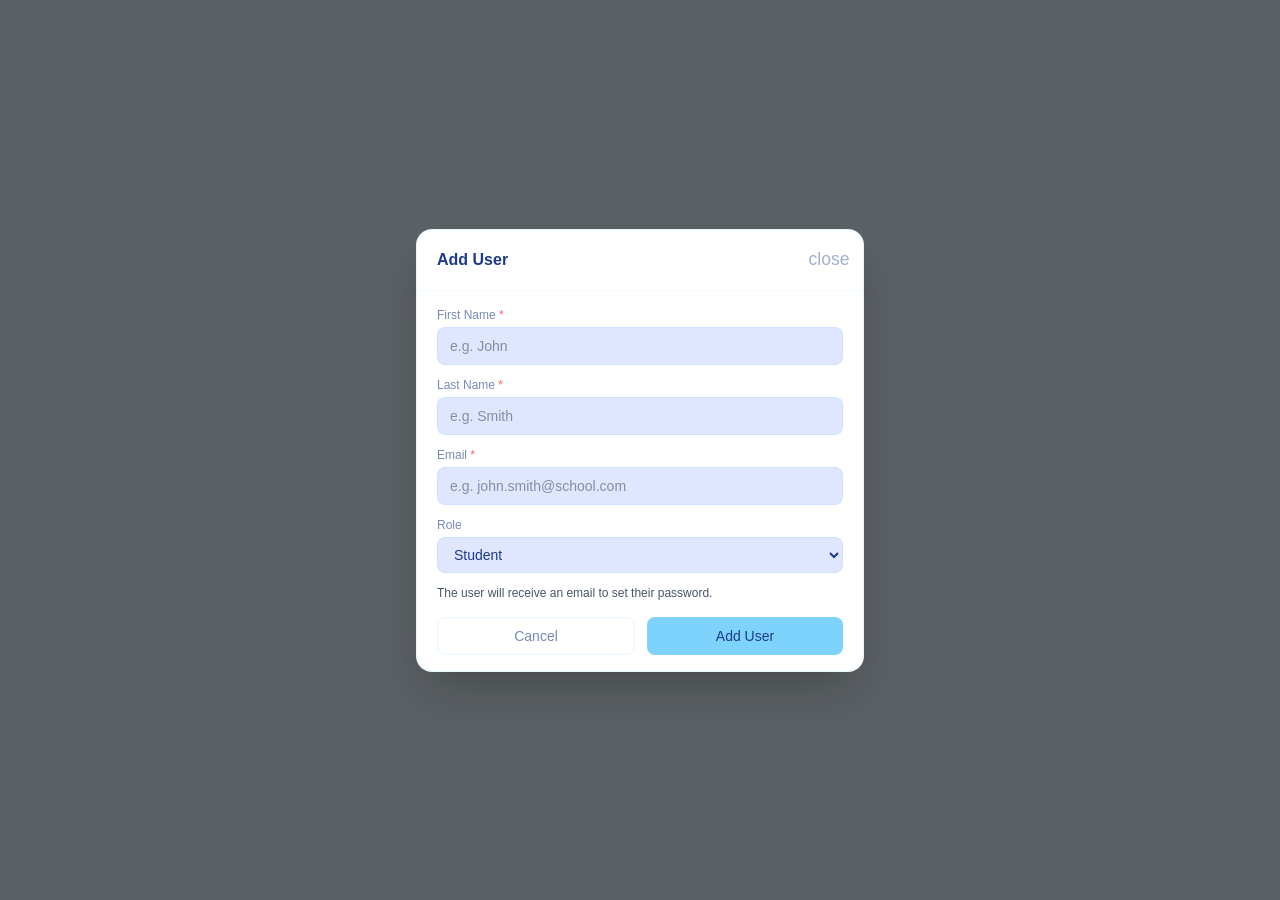
Test: UserFormModal › shows validation error for invalid email
The width and height of the screenshot is (1280, 900).
Type "John" into the field with placeholder "e.g. John" at (640, 346), box [437, 326, 843, 364]
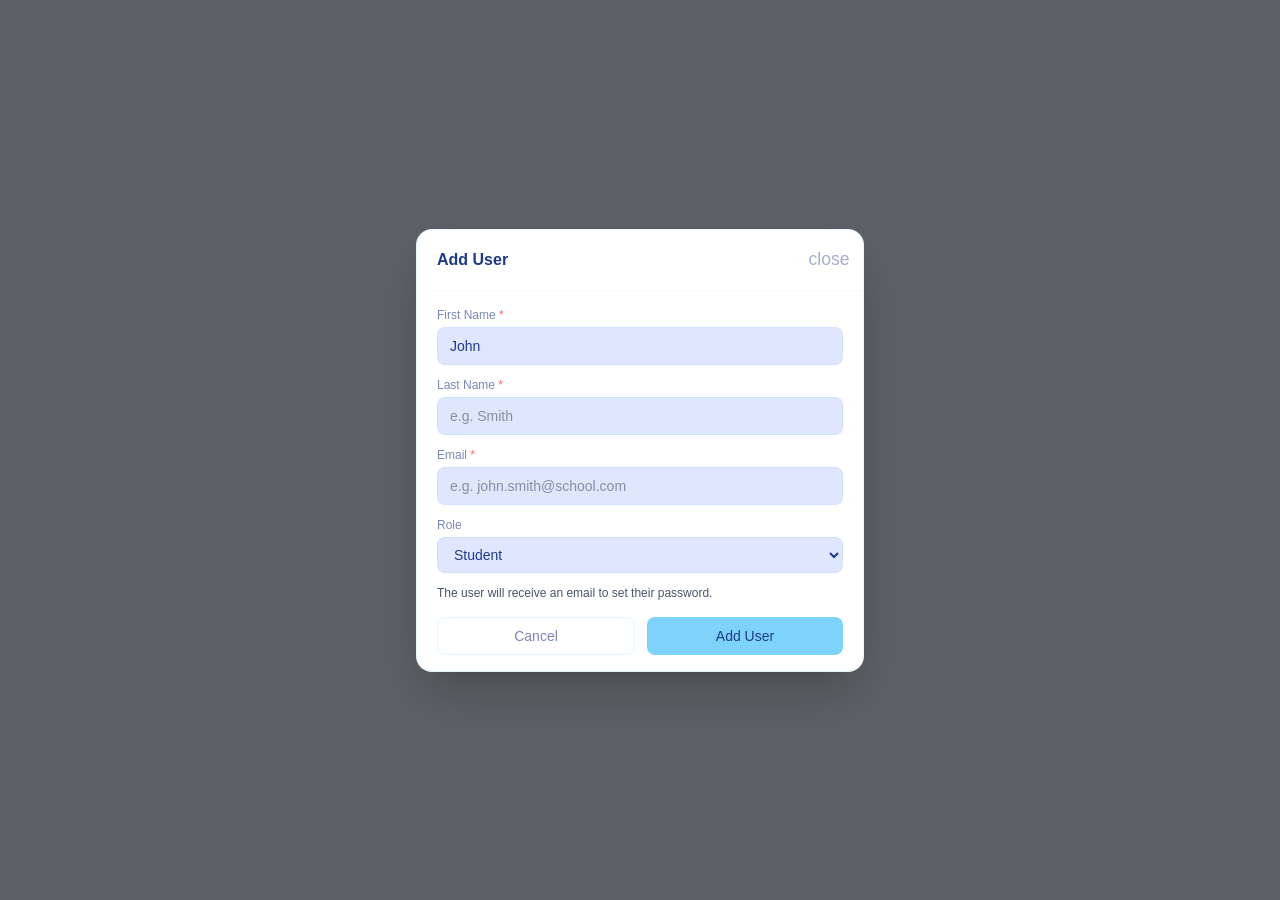
Type "Smith" into the field with placeholder "e.g. Smith" at (640, 416), box [437, 396, 843, 434]
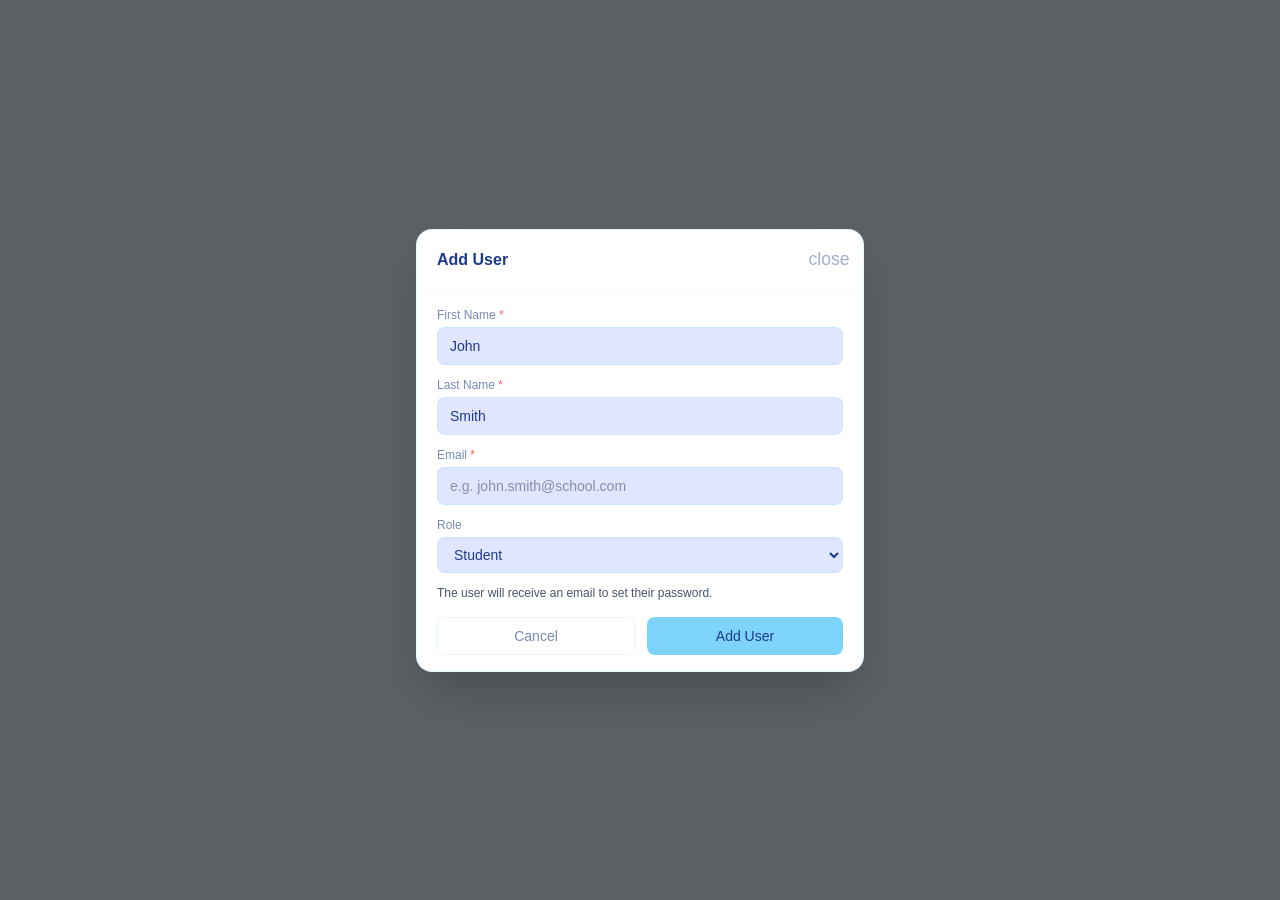
Note: Leave email blank to trigger "Please enter a valid email" path
Submit the form, box [417, 290, 863, 670]
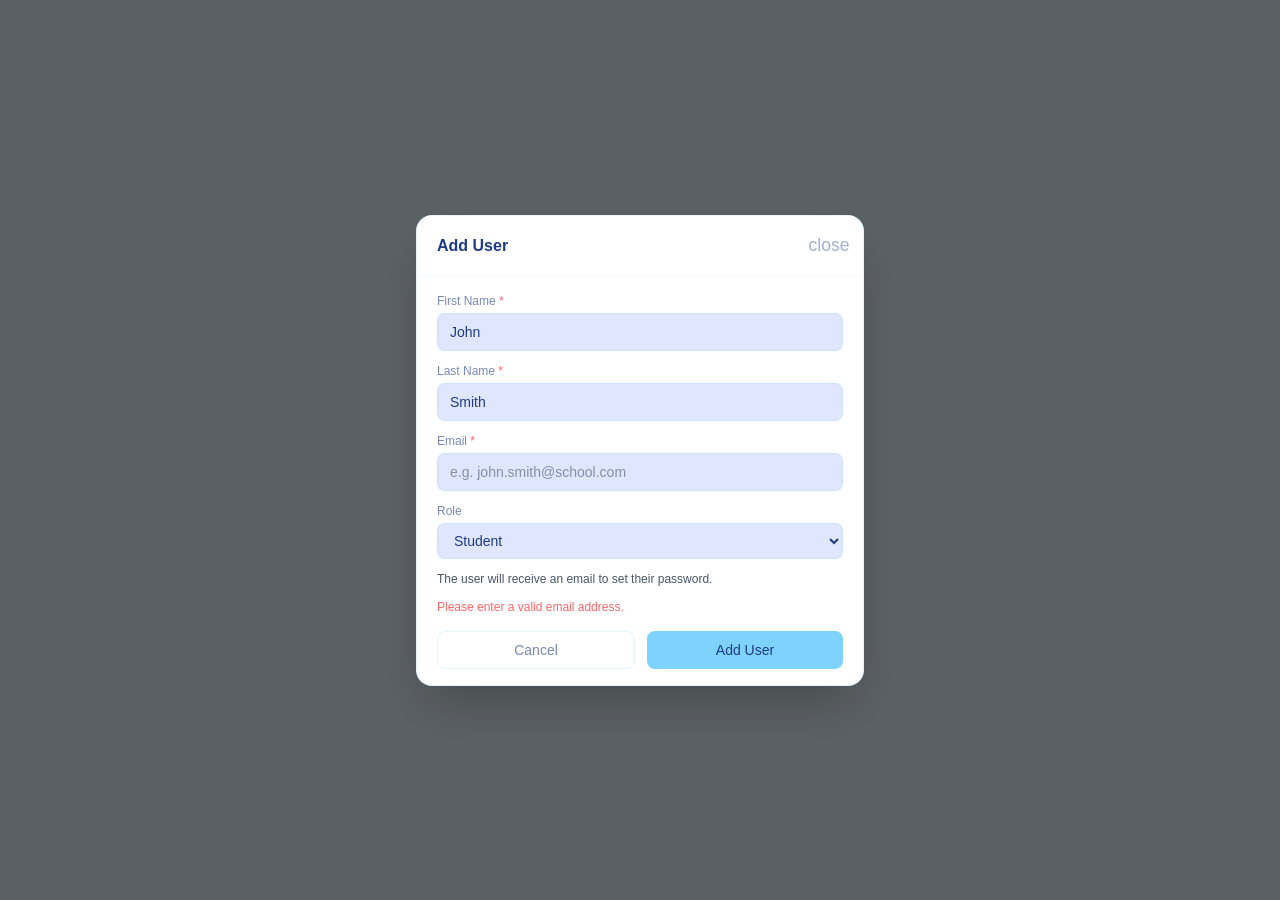
expect the text "Please enter a valid email address." is shown: met, box [437, 600, 624, 614]
